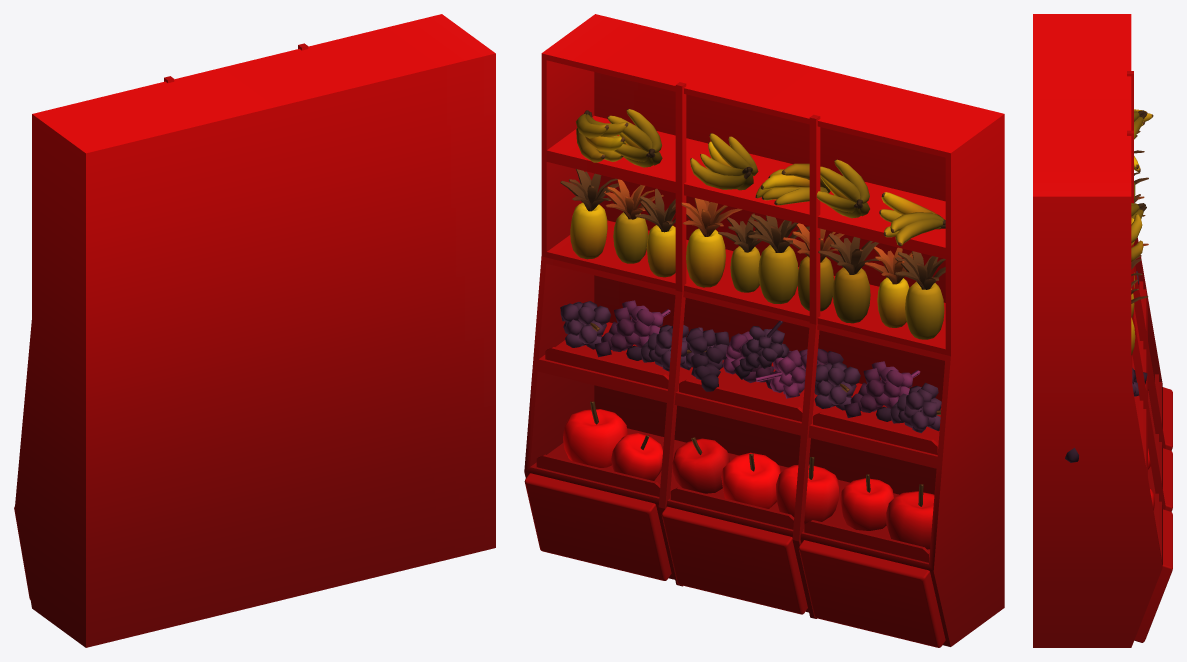
Rendered from Shelf_Full_Fruit.fbx.
The picture shows the model from 3 angles, left to right: view 1: azimuth 30°, elevation 25°; view 2: azimuth 150°, elevation 25°; view 3: azimuth 270°, elevation 25°; orthographic projection. The views are drawn at different scales.
Visible parts, largest first — view 1: Shelf_Full_Fruit; view 2: Shelf_Full_Fruit; view 3: Shelf_Full_Fruit.
Boxes of the visible parts, x1,y1,x2,y2 form: Shelf_Full_Fruit: [14, 14, 495, 647]; Shelf_Full_Fruit: [524, 14, 1004, 647]; Shelf_Full_Fruit: [1033, 14, 1172, 647].
Bounding box in the file's own units: 15.15 × 17.45 × 4.84.
